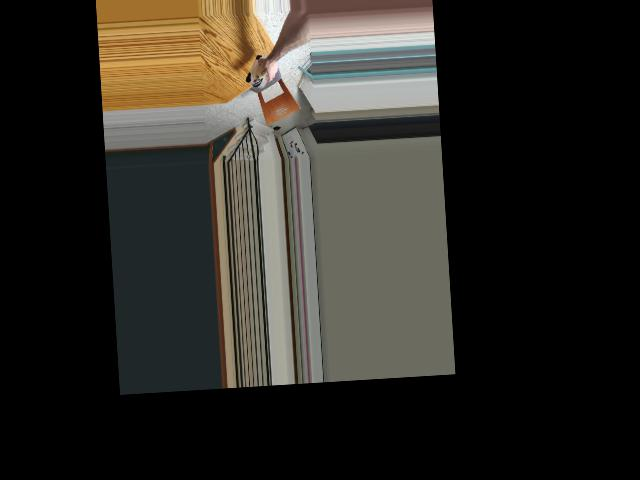cheese: (244, 51, 278, 89)
